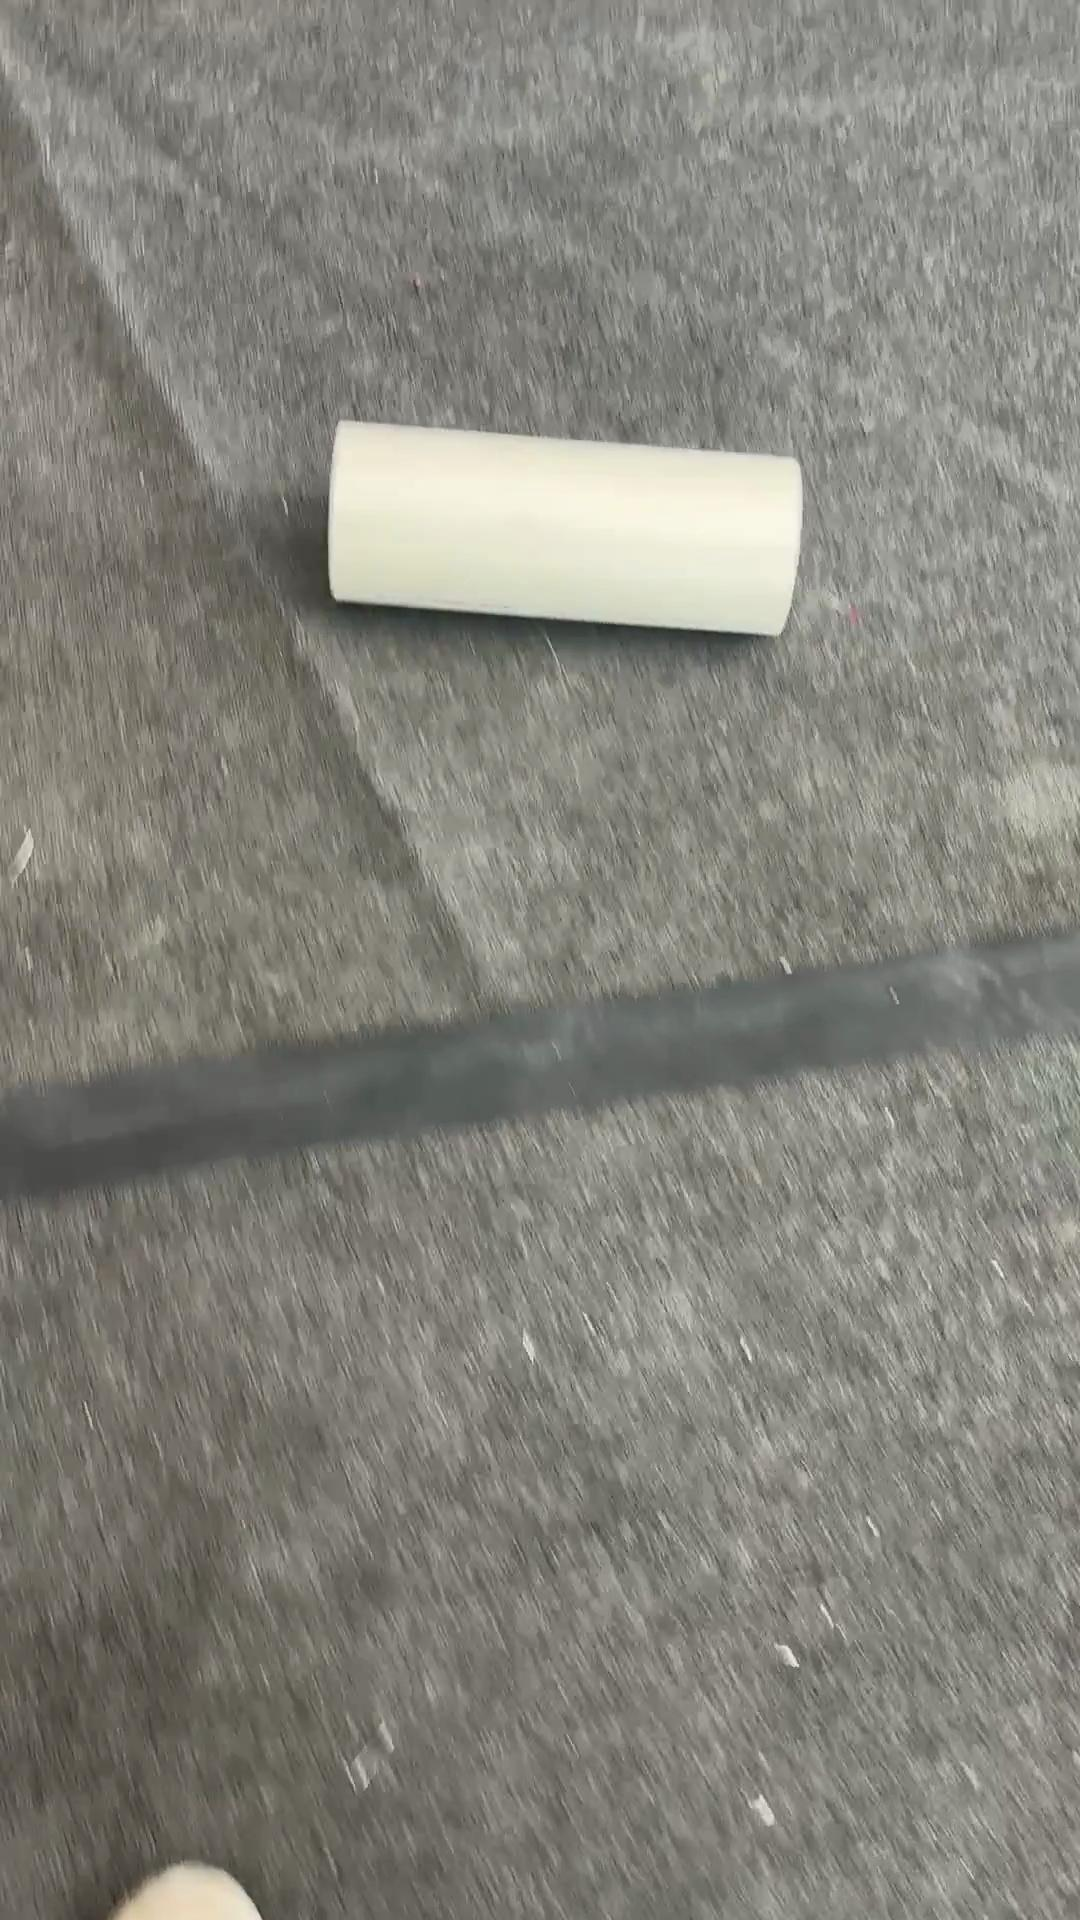CORAL: (323, 415, 805, 638)
